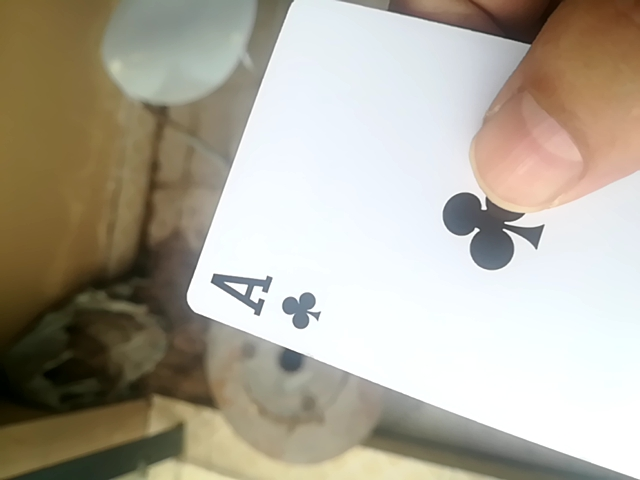mh a: (182, 6, 634, 478)
